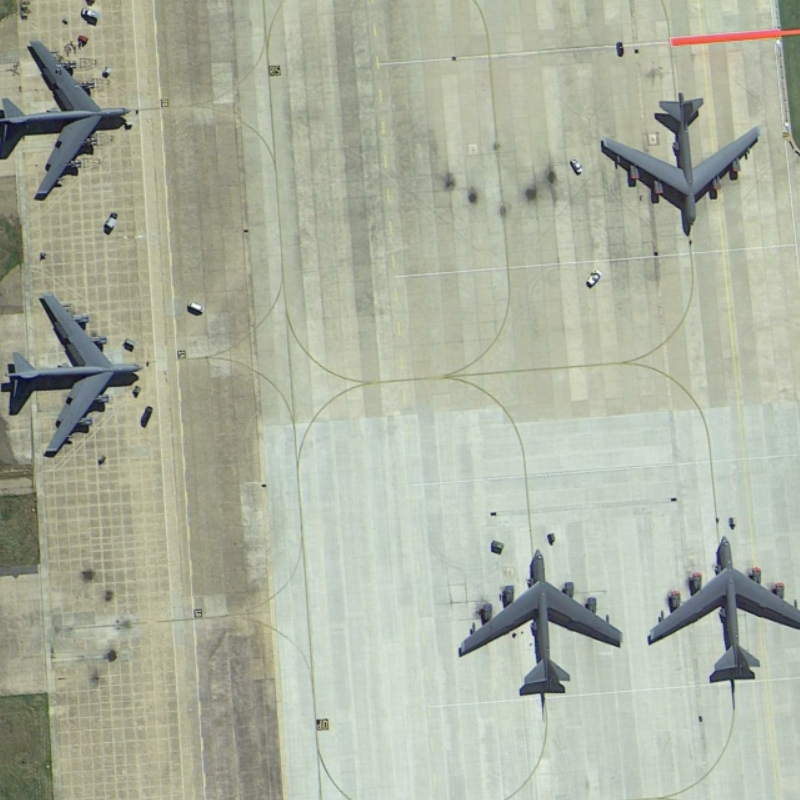A8: (453, 537, 626, 703), (595, 85, 765, 240), (3, 286, 149, 461), (639, 530, 800, 686), (1, 33, 140, 205)
